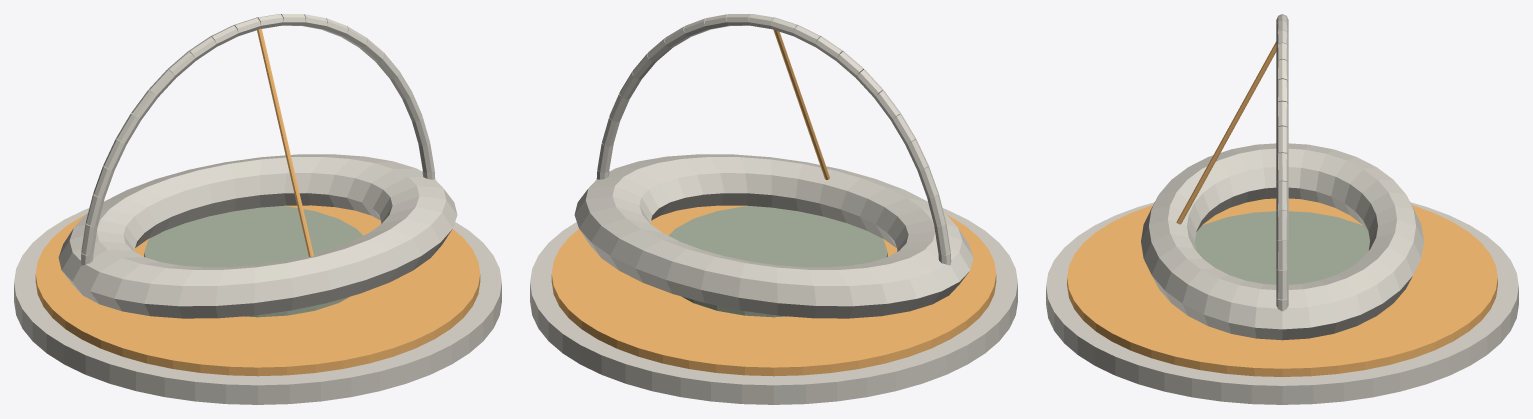
The model's file is stadium.glb.
3 renders of one model, left to right at view 1: azimuth 30°, elevation 25°; view 2: azimuth 150°, elevation 25°; view 3: azimuth 270°, elevation 25°, orthographic. The views are drawn at different scales.
Parts seen in each view (by area): view 1: Cone.027; view 2: Cone.027; view 3: Cone.027.
Boxes of the visible parts, x1,y1,x2,y2 form: Cone.027: [14, 14, 501, 404]; Cone.027: [530, 14, 1017, 404]; Cone.027: [1046, 14, 1518, 404].
Bounding box in the file's own units: 2.7 × 1.73 × 2.7.
